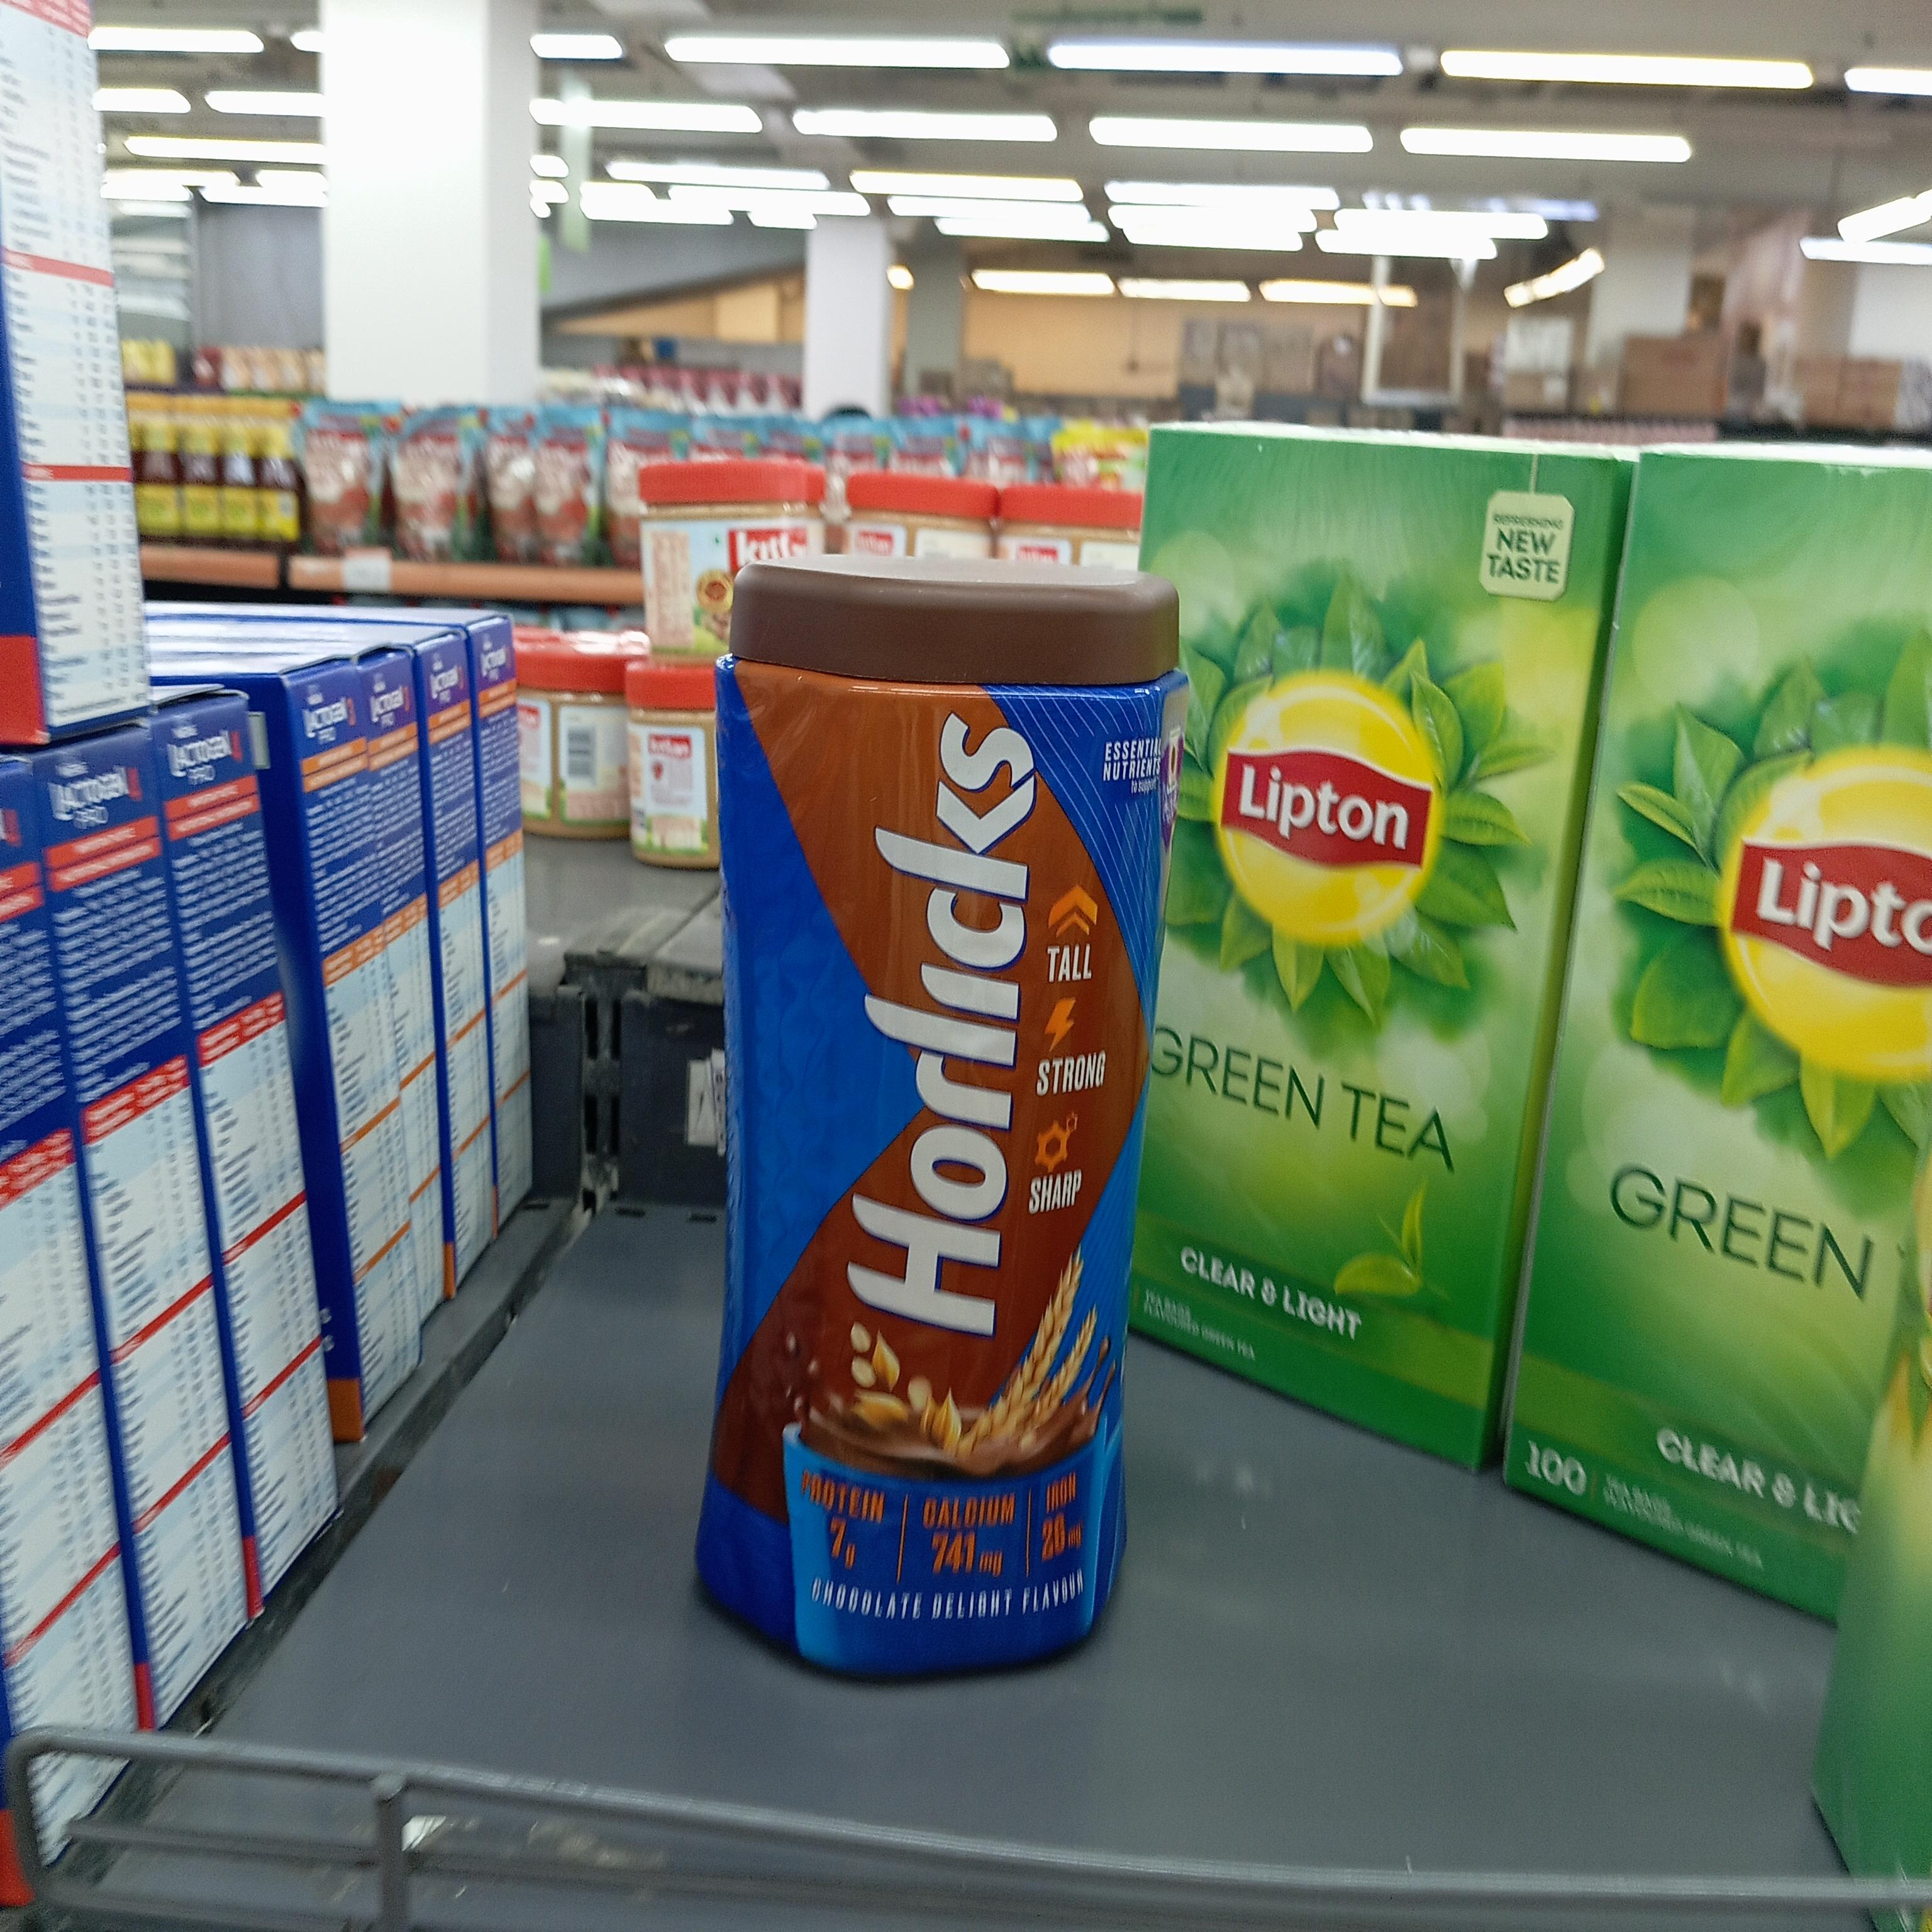HORLICK_CHOCOLATE_1_KG_JAR: (706, 554, 1175, 1690)
